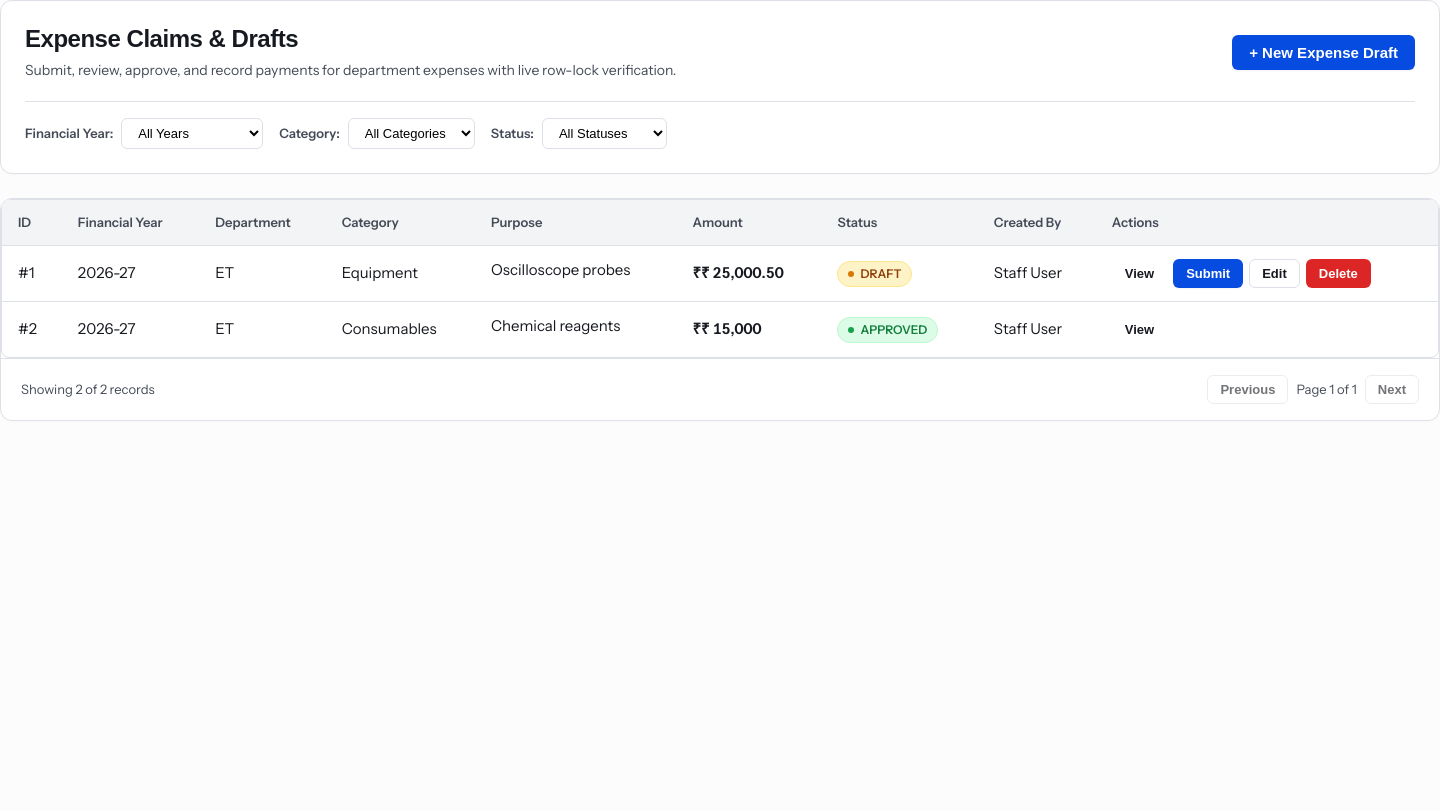
Expenses & Balances Frontend (Iteration 4a) › ExpensesPage Component › displays Category Available balance from Balances API inside the create modal without computing in UI
The width and height of the screenshot is (1440, 810).
Click the button "+ New Expense Draft". click: x=1324, y=53
box: [1232,36,1415,70]
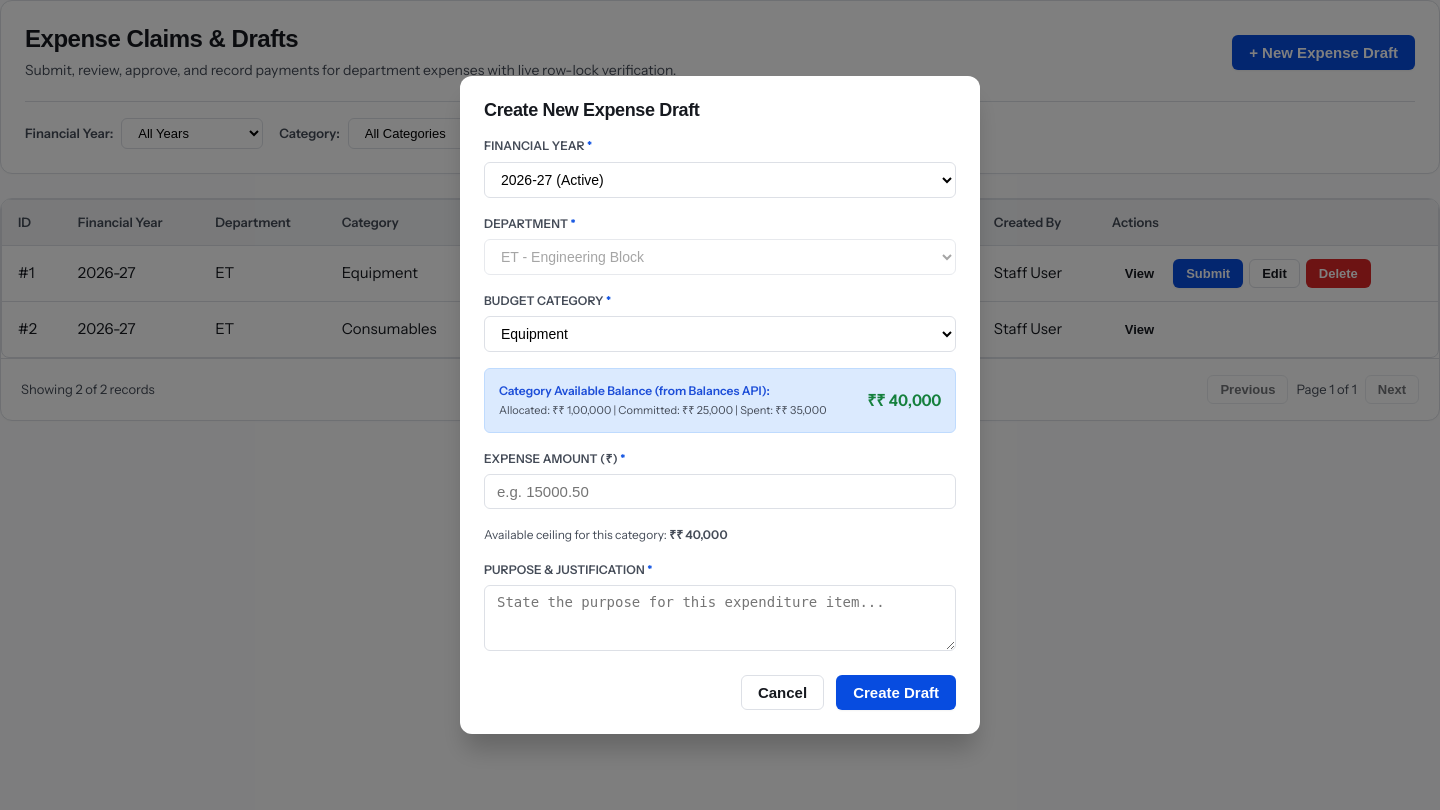
expect the text "Category Available Balance (from Balances API):" is shown: met, box [499,383,770,398]
expect the text "Available ceiling for this category:" is shown: met, box [484,527,669,542]
